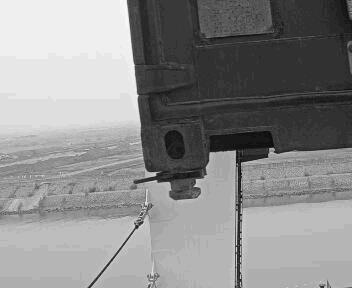twist_lock_1: (125, 166, 192, 205)
